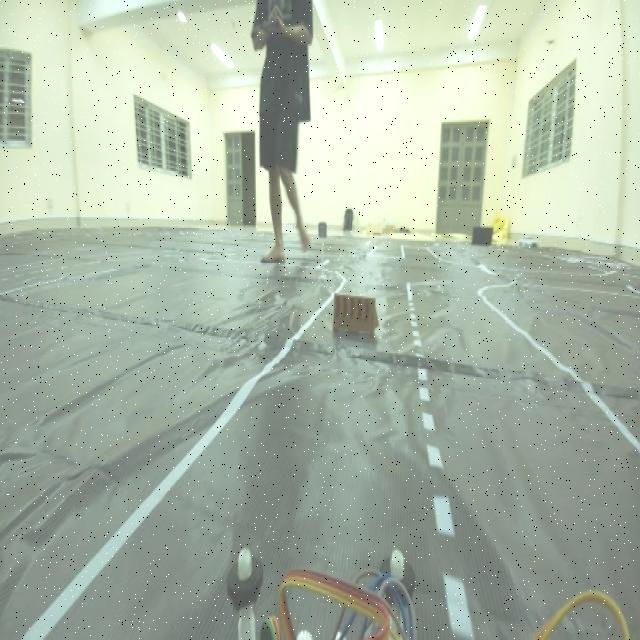roadblock: (326, 287, 382, 350)
